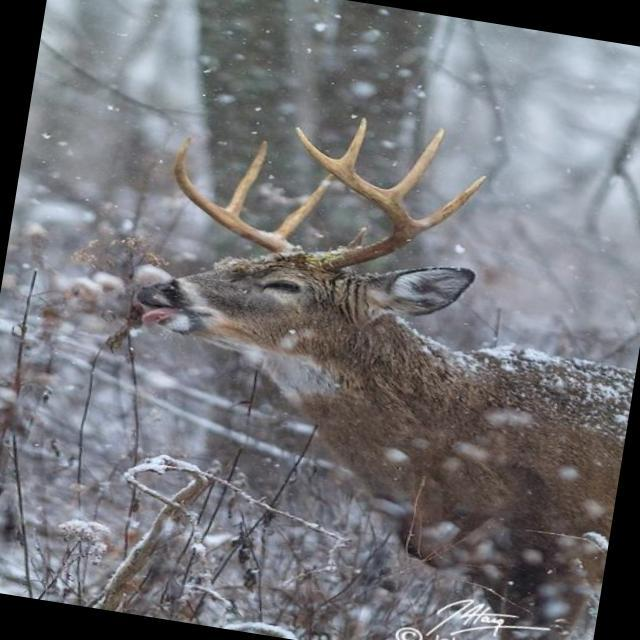L-F: (295, 126, 416, 273)
L-G1: (413, 175, 487, 234)
L-G2: (389, 126, 445, 200)
L-G3: (339, 117, 368, 170)
R-G1: (273, 173, 333, 240)
R-G2: (225, 139, 269, 218)
